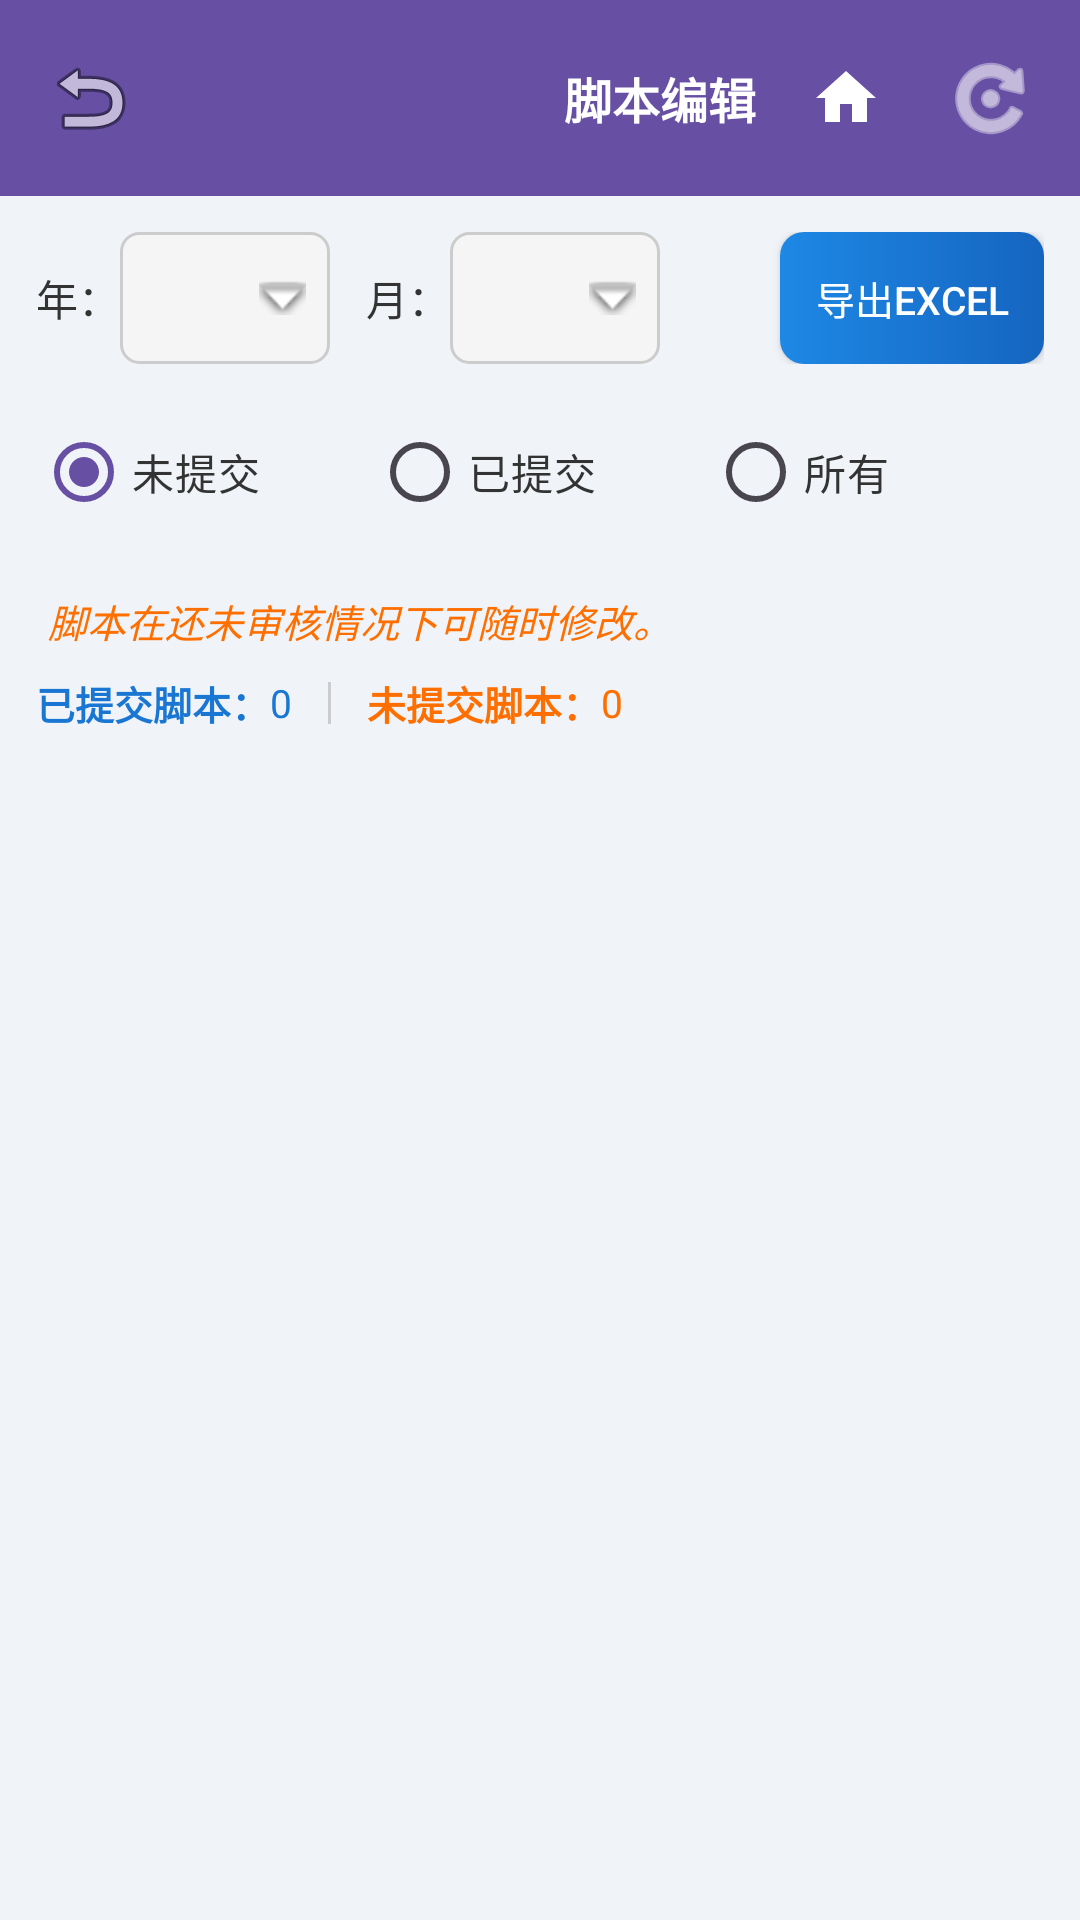

Where to tap for icons on this 1080*1920 app screen, as point (x, y):
主页面: point (846, 96)
刷新: point (990, 98)
返回: point (91, 98)
